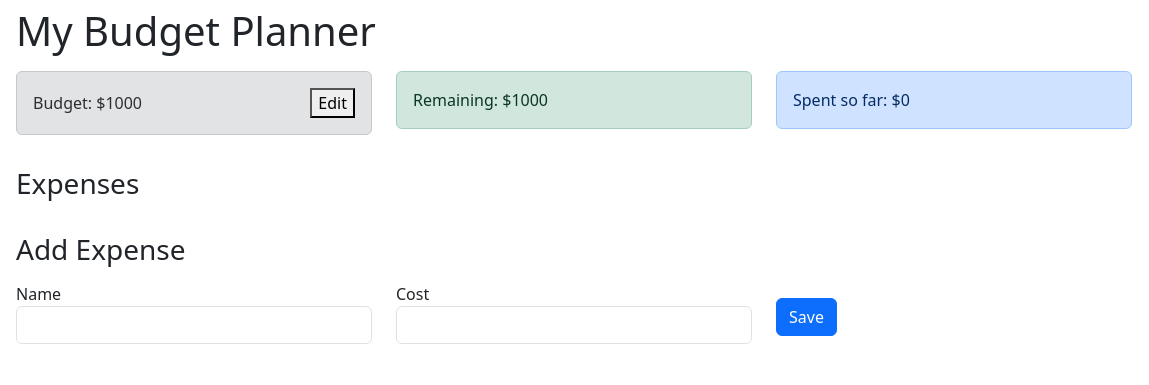
Test: MyBudgetTracker Component › Edit Budget
Expected: the text "Budget: $1000" is shown, x1=33 y1=91 x2=142 y2=115
# Click edit button
Click the button "Edit" at (333, 103), box x1=310 y1=88 x2=355 y2=118
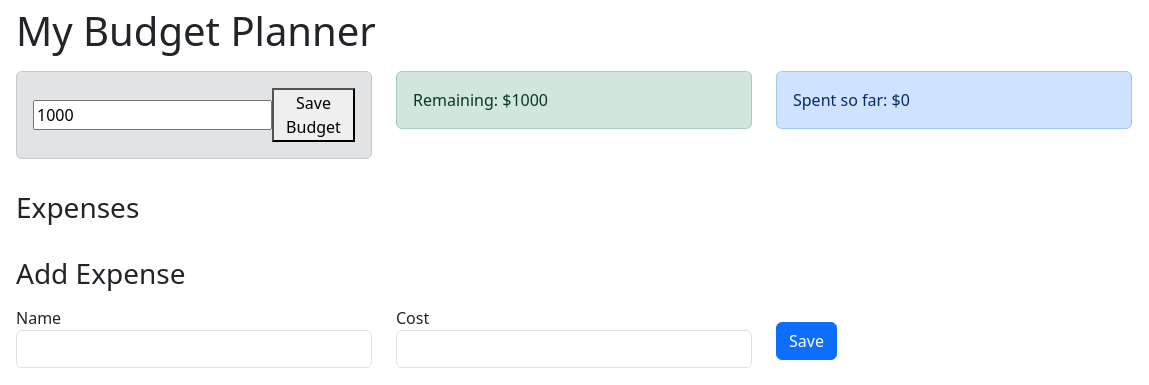
# Change budget value
Replace the text in the number field with test id "budget-input" with "1500" at (152, 115), box x1=33 y1=100 x2=272 y2=130
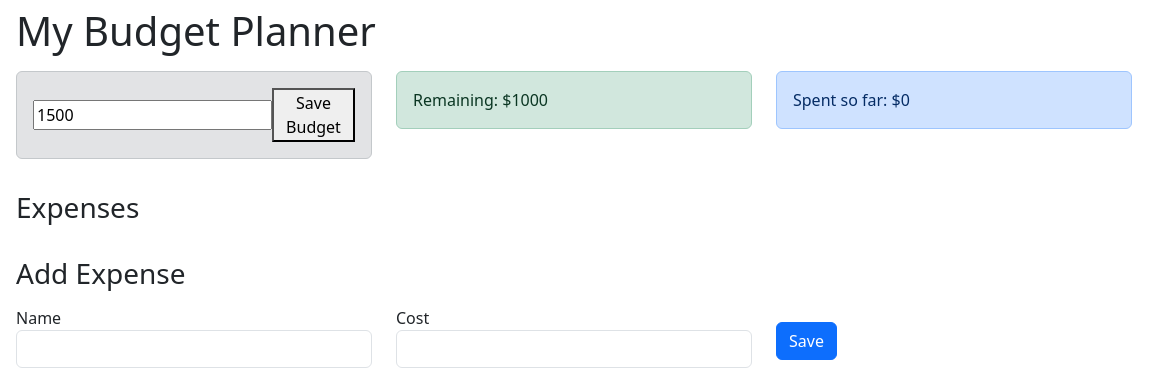
# Save new budget
Click the button with test id "save-budget-button" at (314, 115), box x1=272 y1=88 x2=355 y2=142
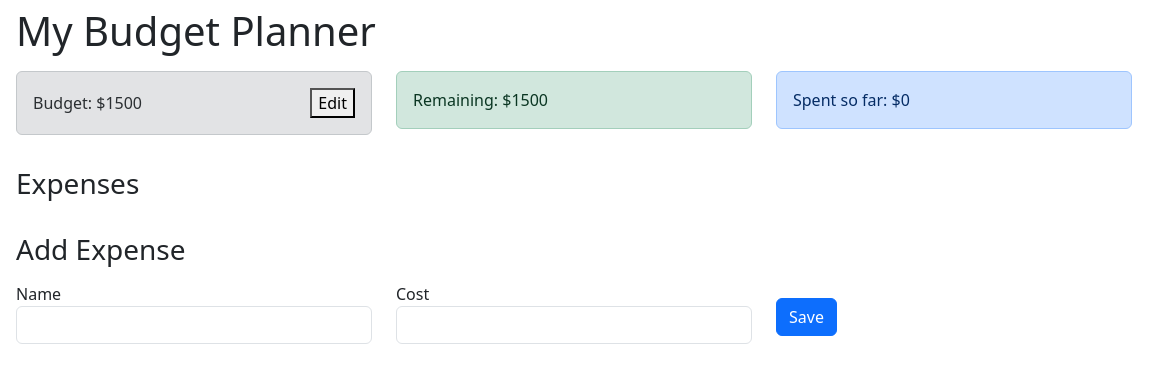
Expected: the text "Budget: $1500" is shown, x1=33 y1=91 x2=142 y2=115
